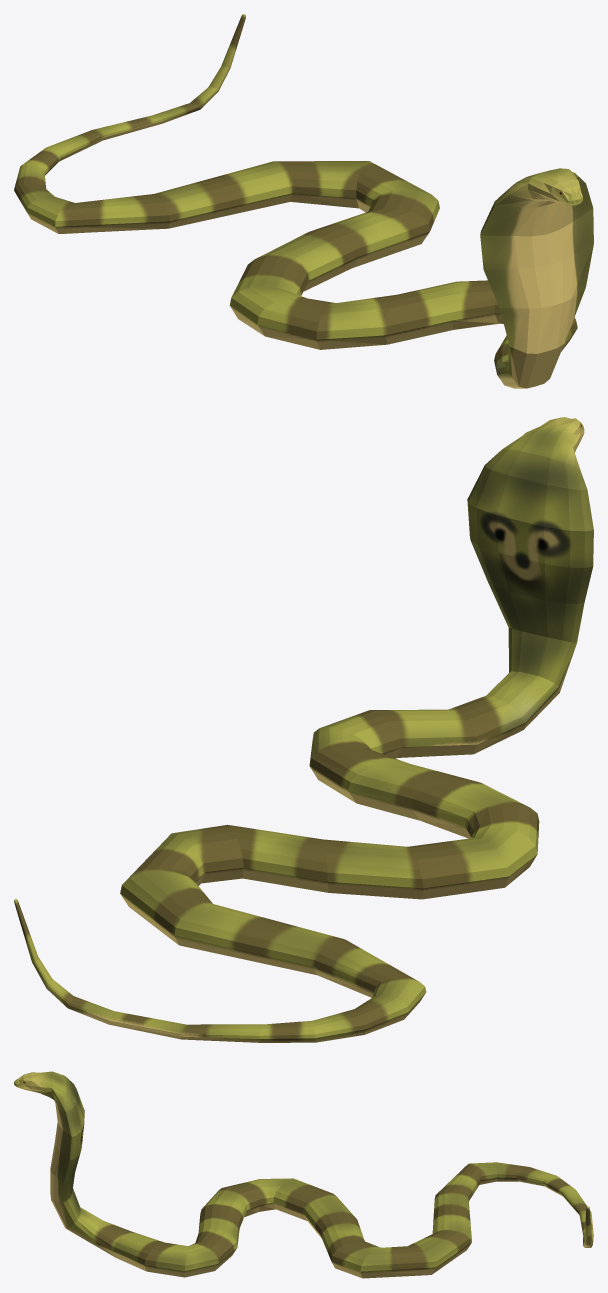
The model's file is cobra.glb.
The picture shows the model from 3 angles, top to bottom: view 1: azimuth 30°, elevation 25°; view 2: azimuth 150°, elevation 25°; view 3: azimuth 270°, elevation 25°; orthographic projection. The views are drawn at different scales.
Visible parts, largest first — view 1: Node; view 2: Node; view 3: Node.
Boxes of the visible parts, bbox=[...] form: Node: bbox=[14, 14, 593, 388]; Node: bbox=[14, 417, 593, 1042]; Node: bbox=[14, 1071, 593, 1278].
Size of the model in its own units: 7.22 by 5.5 by 16.82.
Materials: 3 (1 with a texture image).
